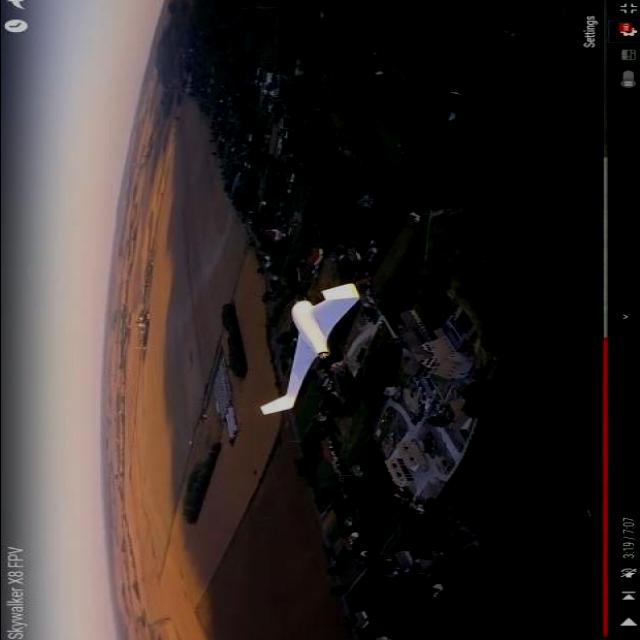plane: (257, 282, 360, 417)
